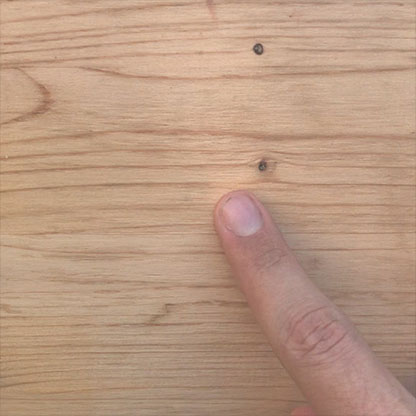fingertip: (203, 176, 279, 248)
